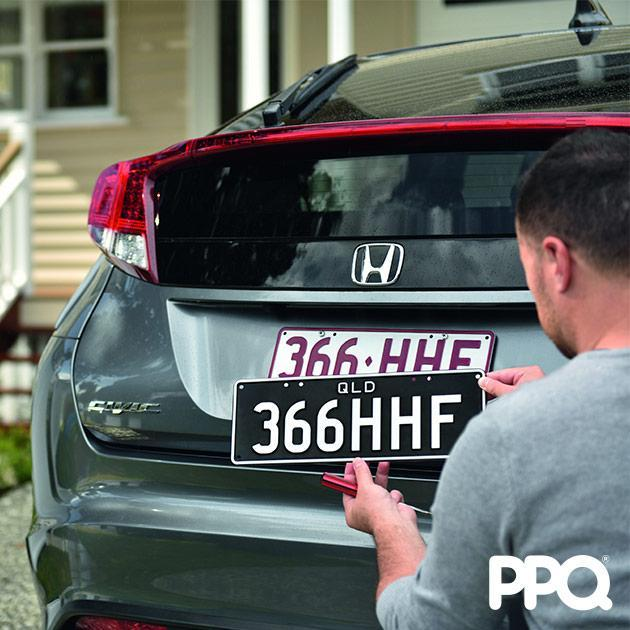bienso: (227, 365, 494, 469)
